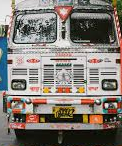truck: (4, 1, 122, 142)
